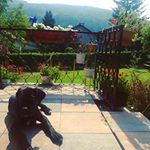puppy: (4, 84, 66, 149)
